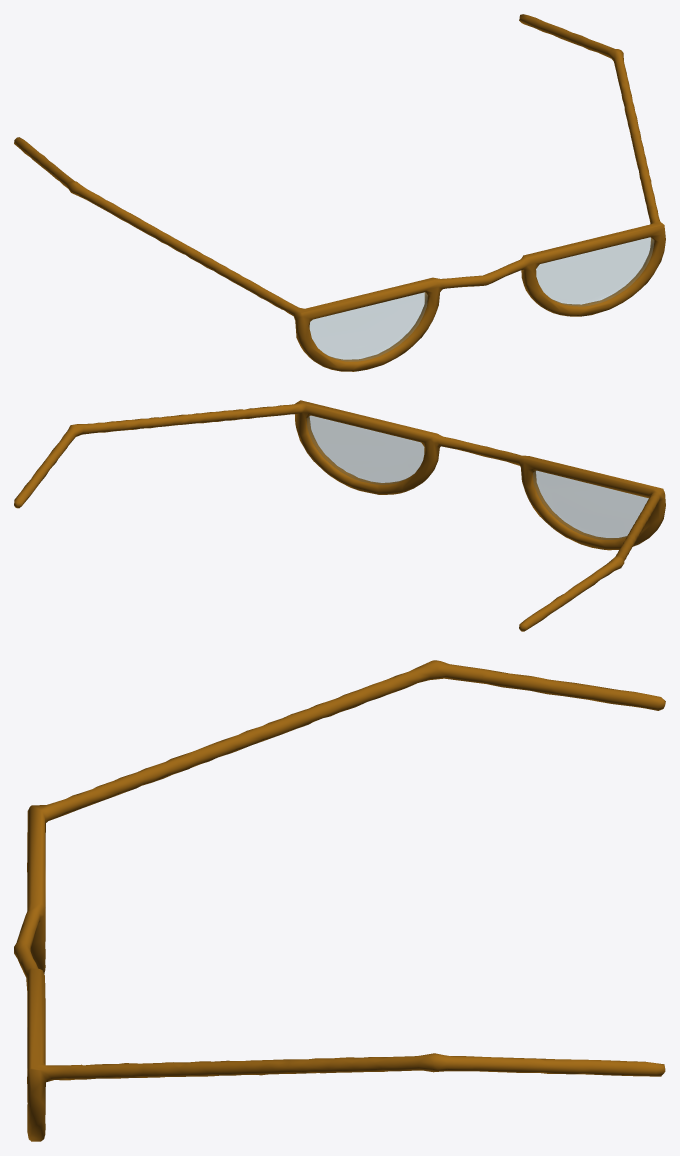
File: kinhlao.glb
3 views of the same model, one above another, from view 1: azimuth 30°, elevation 25°; view 2: azimuth 150°, elevation 25°; view 3: azimuth 270°, elevation 25° (orthographic). The views are drawn at different scales.
Visible parts, largest first — view 1: Gong_KinhLao, Trong_KinhLao; view 2: Gong_KinhLao, Trong_KinhLao; view 3: Gong_KinhLao.
Boxes of the visible parts, bbox=[...] form: Gong_KinhLao: bbox=[14, 14, 665, 371]; Trong_KinhLao: bbox=[309, 237, 653, 361]; Gong_KinhLao: bbox=[14, 400, 665, 631]; Trong_KinhLao: bbox=[307, 415, 648, 539]; Gong_KinhLao: bbox=[14, 660, 665, 1141].
Size of the model in its own units: 0.2544 by 0.0556 by 0.1747.
